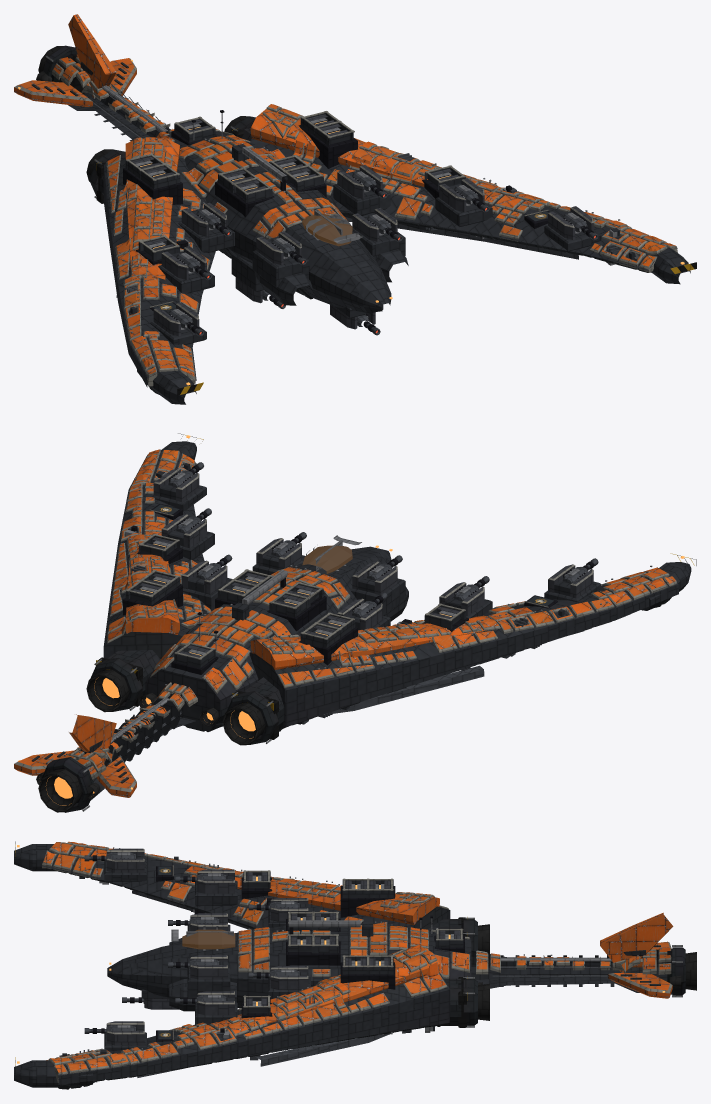
Rendered from saturn-schiff7.glb.
3 renders of one model, top to bottom at view 1: azimuth 30°, elevation 25°; view 2: azimuth 150°, elevation 25°; view 3: azimuth 270°, elevation 25°, orthographic. The views are drawn at different scales.
Visible parts, largest first — view 1: Hull_LOD0; view 2: Hull_LOD0, EngineLight; view 3: Hull_LOD0.
Boxes of the visible parts, bbox=[...] form: Hull_LOD0: bbox=[14, 14, 696, 404]; Hull_LOD0: bbox=[14, 433, 696, 812]; EngineLight: bbox=[45, 677, 255, 805]; Hull_LOD0: bbox=[14, 841, 696, 1089].
Bounding box in the file's own units: 76.55 × 15.74 × 95.
Materials: 6 (4 with a texture image).
